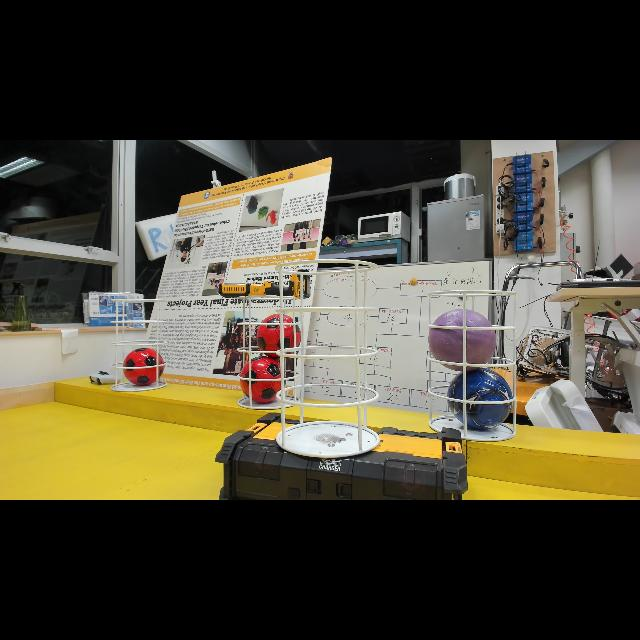B: (444, 363, 514, 433)
P: (427, 307, 501, 373)
R: (238, 354, 286, 406), (252, 310, 302, 358), (122, 342, 166, 388)
S: (271, 256, 385, 464), (425, 287, 521, 445), (234, 290, 302, 414), (108, 294, 172, 392)
